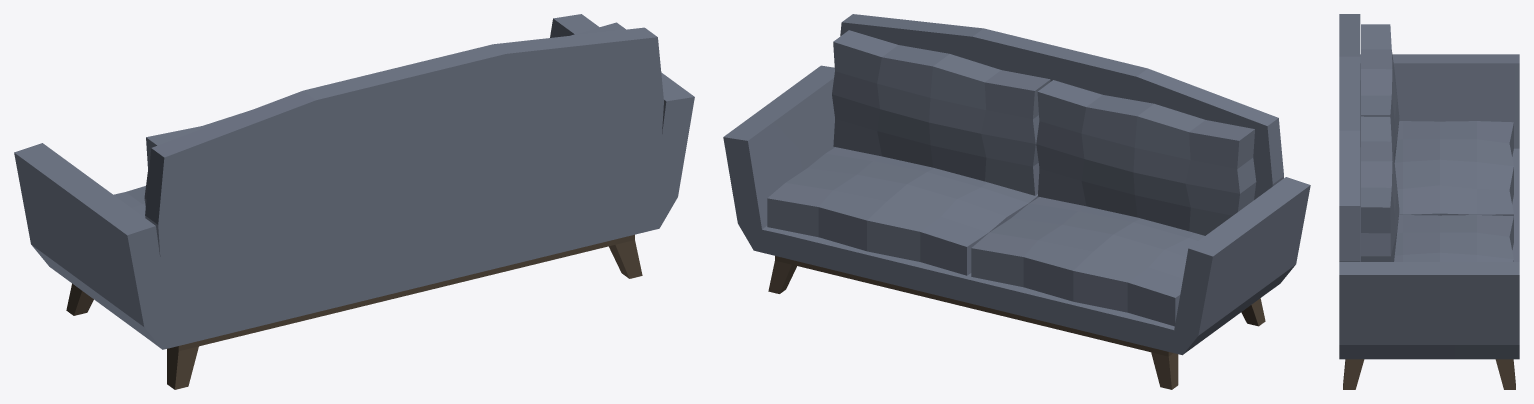
File: divan.fbx
3 views of the same model, side by side, from view 1: azimuth 30°, elevation 25°; view 2: azimuth 150°, elevation 25°; view 3: azimuth 270°, elevation 25° (orthographic). The views are drawn at different scales.
Parts seen in each view (by area): view 1: divan1:base, divan1:coussin_haut_droit; view 2: divan1:base, divan1:coussin_haut_droit, divan1:coussin_haut_gauche, divan1:coussin_bas_gauche, divan1:coussin_bas_droit; view 3: divan1:base, divan1:coussin_bas_droit, divan1:coussin_bas_gauche, divan1:coussin_haut_gauche, divan1:coussin_haut_droit.
Part boxes in pixels (left/top/right/bottom): divan1:base: left=14, top=14, right=694, bottom=389; divan1:coussin_haut_droit: left=144, top=110, right=249, bottom=206; divan1:base: left=723, top=14, right=1310, bottom=389; divan1:coussin_haut_droit: left=1036, top=80, right=1256, bottom=235; divan1:coussin_haut_gauche: left=832, top=30, right=1050, bottom=195; divan1:coussin_bas_gauche: left=767, top=147, right=1038, bottom=275; divan1:coussin_bas_droit: left=971, top=197, right=1204, bottom=326; divan1:base: left=1339, top=14, right=1519, bottom=389; divan1:coussin_bas_droit: left=1394, top=121, right=1513, bottom=216; divan1:coussin_bas_gauche: left=1394, top=215, right=1513, bottom=261; divan1:coussin_haut_gauche: left=1360, top=116, right=1399, bottom=261; divan1:coussin_haut_droit: left=1360, top=24, right=1399, bottom=171.
Bounding box in the file's own units: 12.03 × 5.22 × 4.16.
